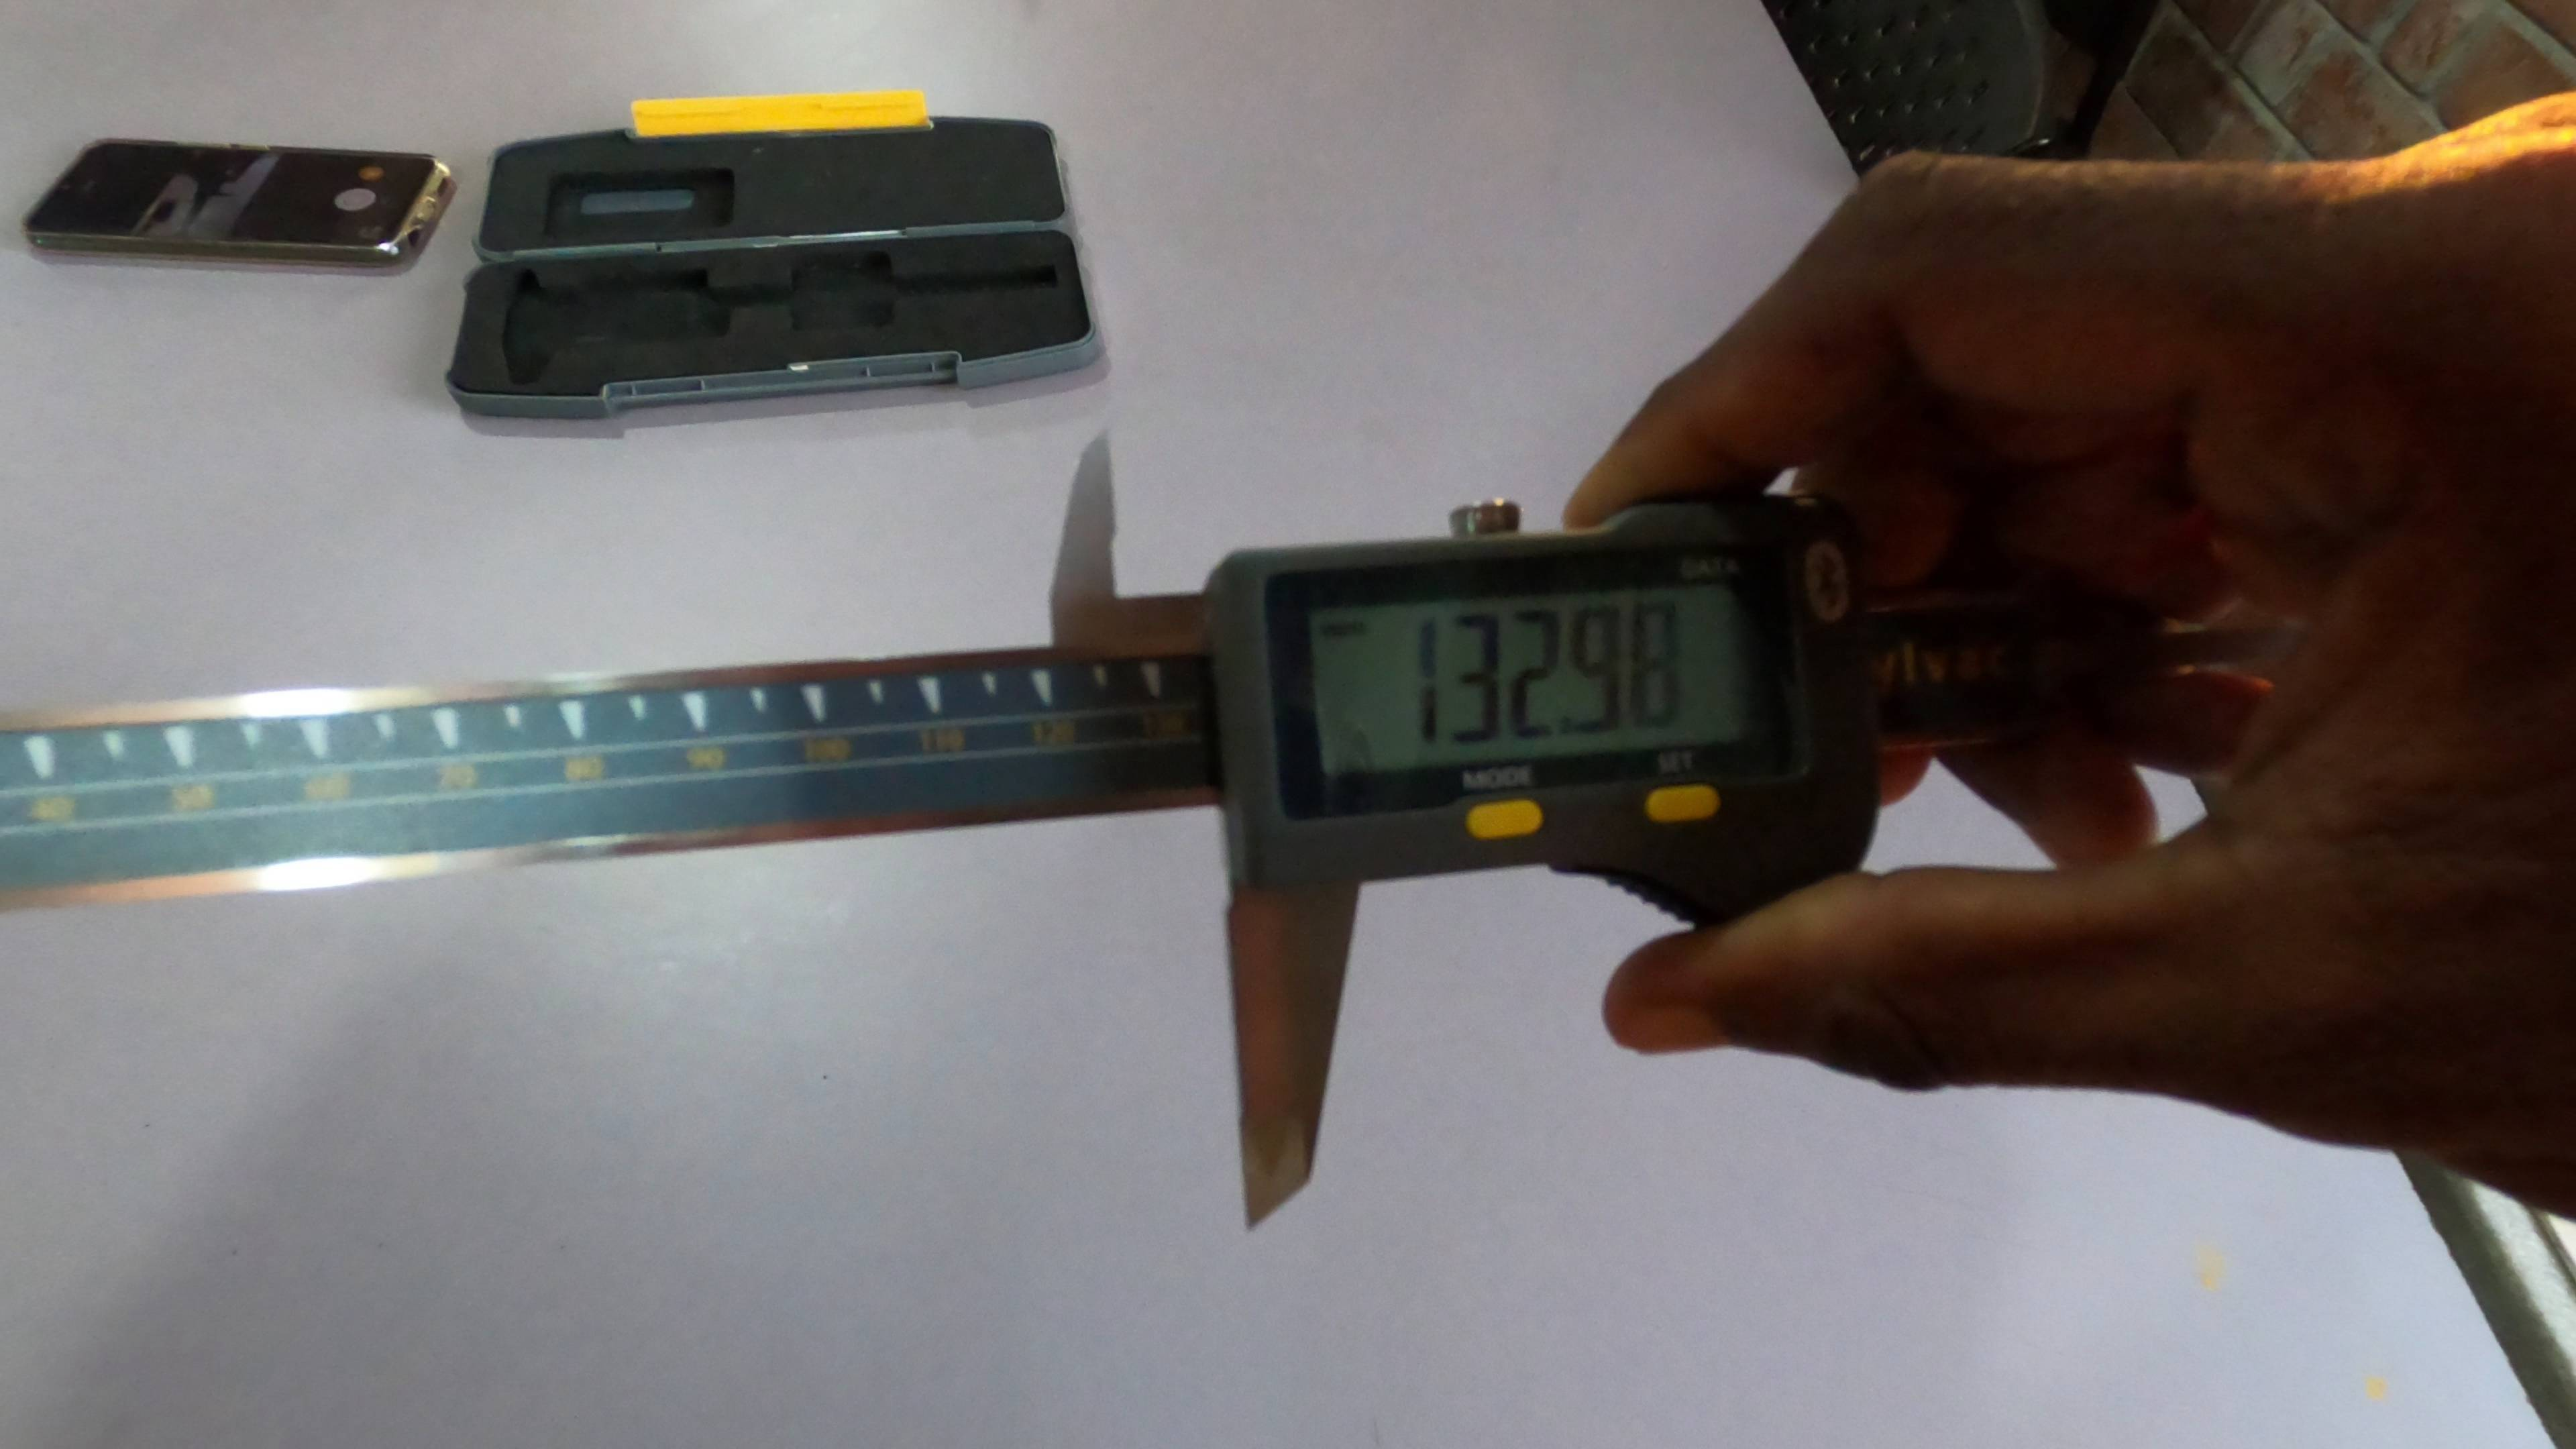vernier_caliper: (7, 400, 1882, 1246)
